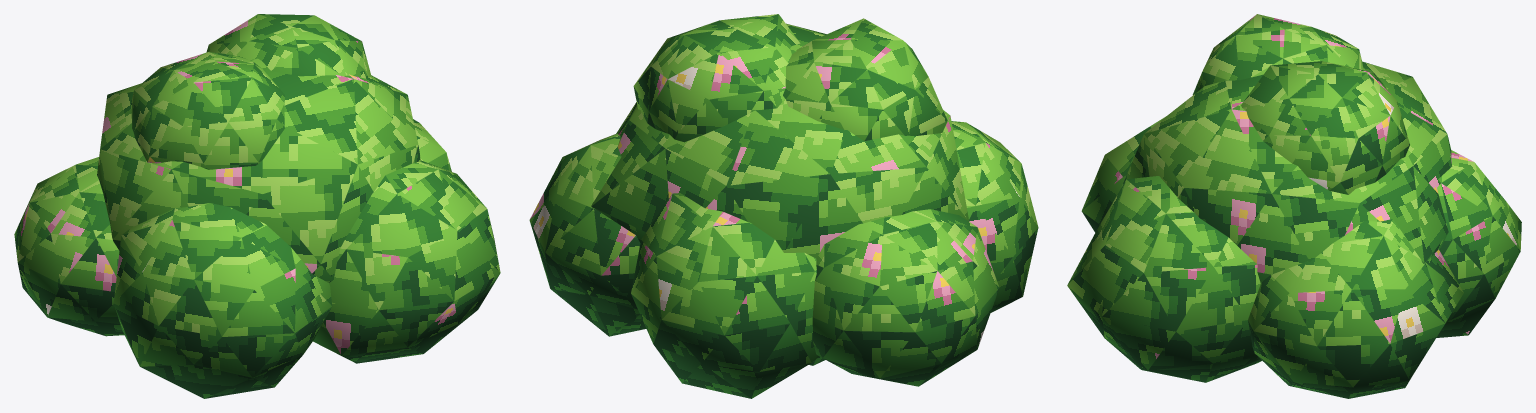
The model's file is bush_flower_a.glb.
3 views of the same model, side by side, from view 1: azimuth 30°, elevation 25°; view 2: azimuth 150°, elevation 25°; view 3: azimuth 270°, elevation 25° (orthographic). The views are drawn at different scales.
Parts seen in each view (by area): view 1: bush_flower_a; view 2: bush_flower_a; view 3: bush_flower_a.
Part boxes in pixels (x1,y1,x2,y2): bush_flower_a: (14,14,500,398); bush_flower_a: (529,14,1038,398); bush_flower_a: (1067,14,1521,398).
Size of the model in its own units: 1.68 by 1.08 by 1.61.
1 material, 1 textured.
